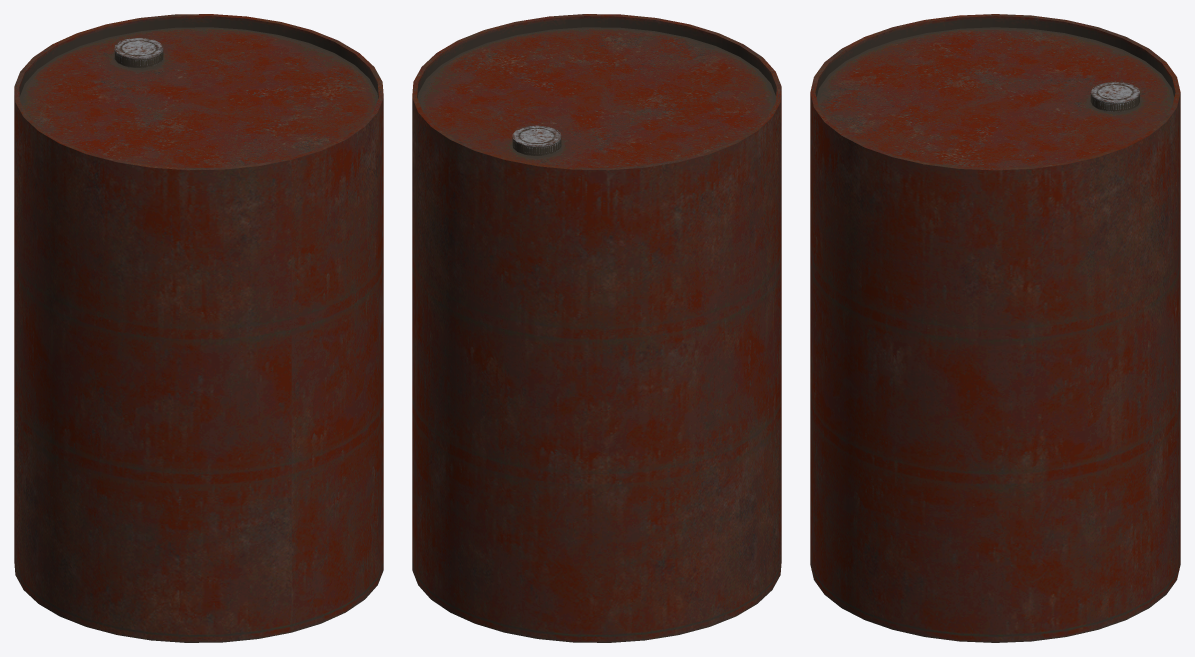
Rendered from SM_Barrel.FBX.
The picture shows the model from 3 angles, left to right: view 1: azimuth 30°, elevation 25°; view 2: azimuth 150°, elevation 25°; view 3: azimuth 270°, elevation 25°; orthographic projection.
Parts seen in each view (by area): view 1: SM_Barrel_LOD0; view 2: SM_Barrel_LOD0; view 3: SM_Barrel_LOD0.
Boxes of the visible parts, x1,y1,x2,y2 form: SM_Barrel_LOD0: (14,14,383,642); SM_Barrel_LOD0: (412,14,781,642); SM_Barrel_LOD0: (810,14,1180,642).
Bounding box in the file's own units: 60 × 60 × 84.5.
